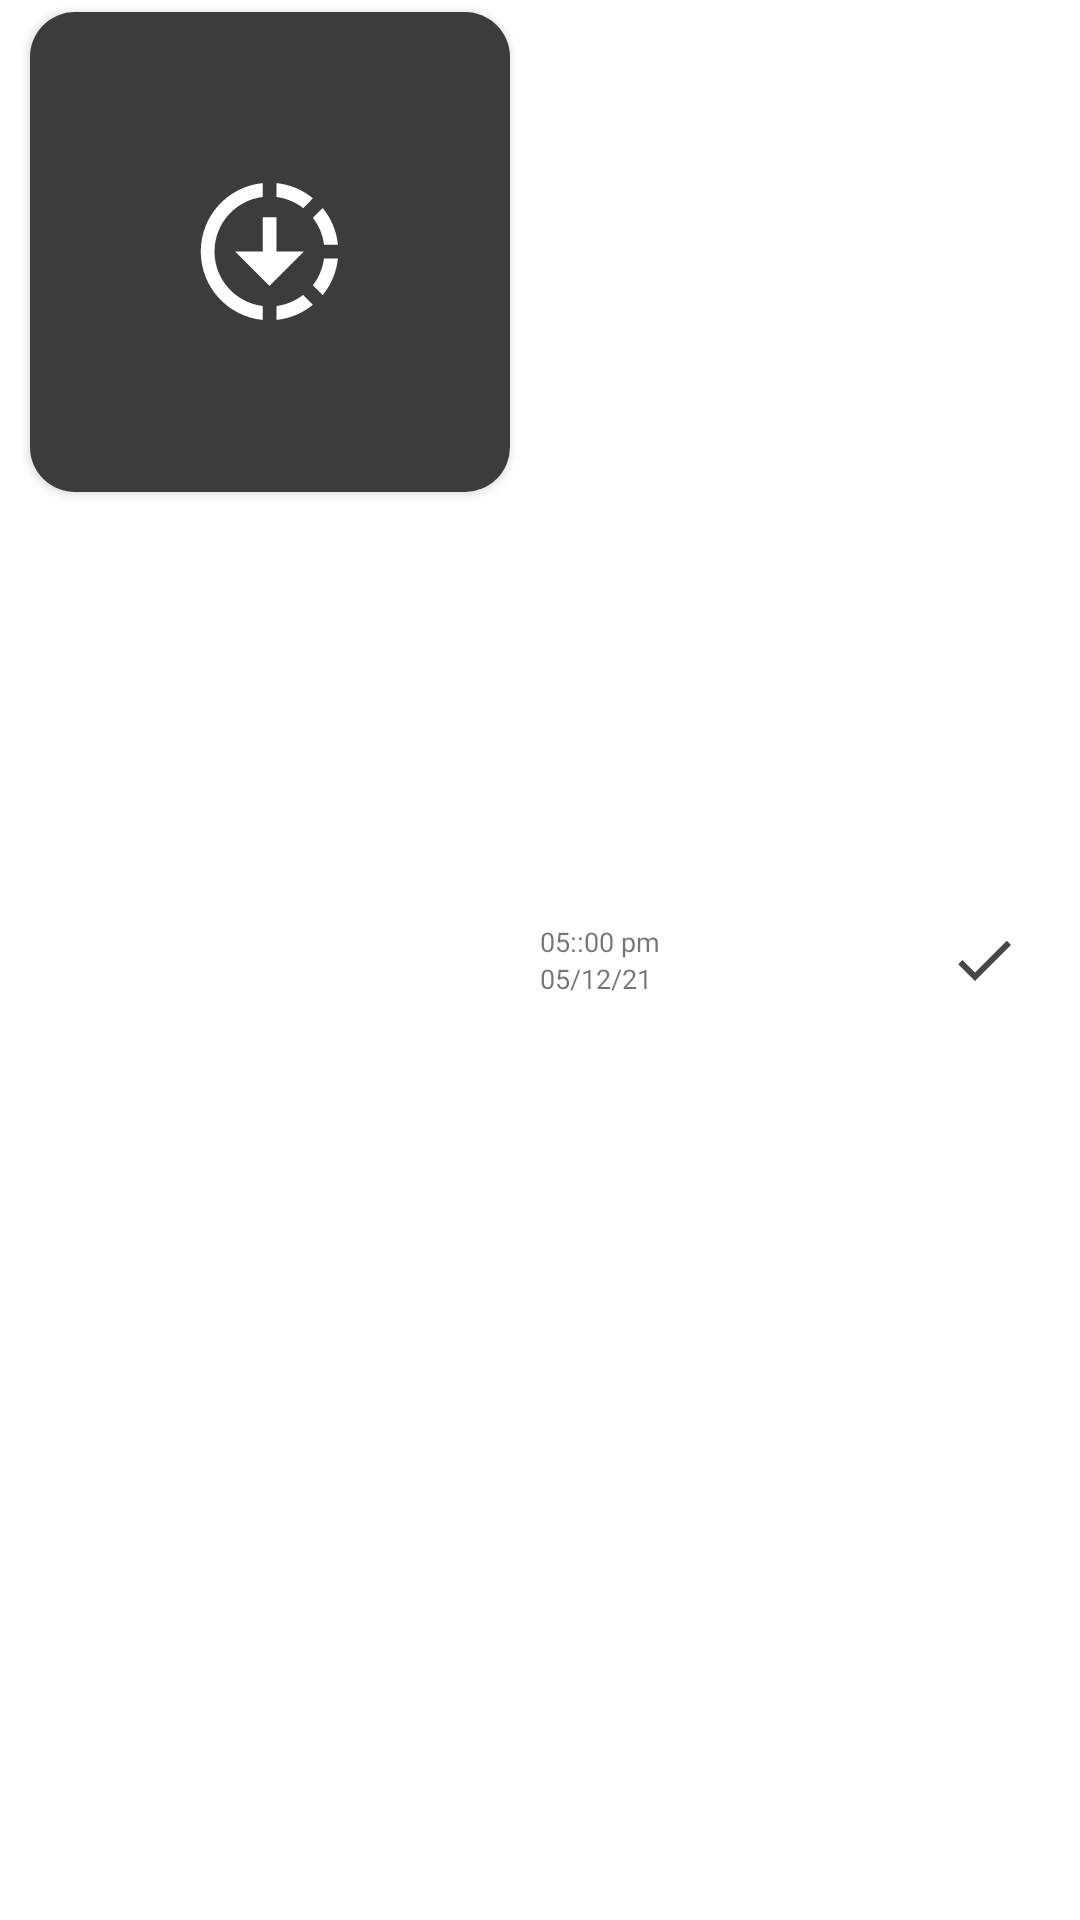

Point at icon controls on the screen. Image size 1080*1920, points as [x,y].
done: [984,961]
downloading: [269,251]
